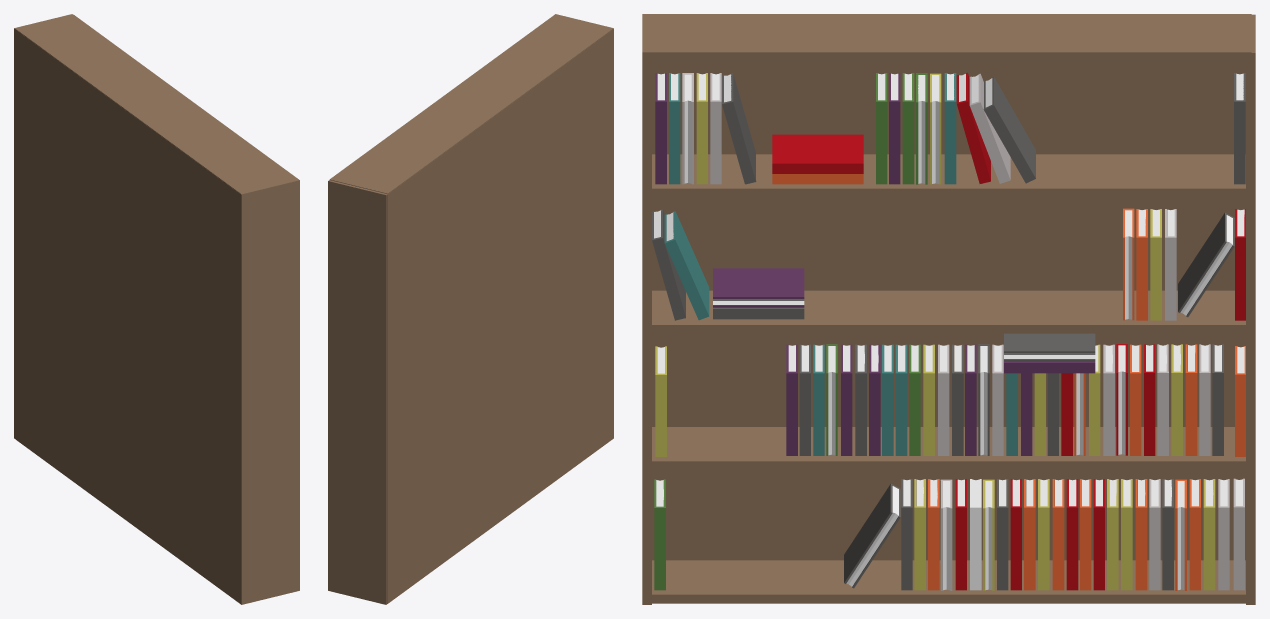
3 renders of one model, left to right at view 1: azimuth 30°, elevation 25°; view 2: azimuth 150°, elevation 25°; view 3: azimuth 270°, elevation 25°, orthographic. The views are drawn at different scales.
Visible parts, largest first — view 1: Cube; view 2: Cube; view 3: Cube, Cube.002, Cube.001, Cube.005, Cube.004, Cube.006, Cube.007, Cube.003, Cube.009, Cube.008.
Boxes of the visible parts, x1,y1,x2,y2 form: Cube: [14, 14, 299, 604]; Cube: [328, 14, 613, 604]; Cube: [642, 14, 1255, 604]; Cube.002: [654, 73, 1244, 590]; Cube.001: [652, 73, 1245, 590]; Cube.005: [655, 73, 1215, 590]; Cube.004: [682, 73, 1244, 590]; Cube.006: [772, 174, 1245, 590]; Cube.007: [772, 72, 1245, 590]; Cube.003: [655, 73, 1095, 455]; Cube.009: [664, 73, 1017, 455]; Cube.008: [654, 73, 927, 590].
Bounding box in the file's own units: 87.43 × 588 × 591.
